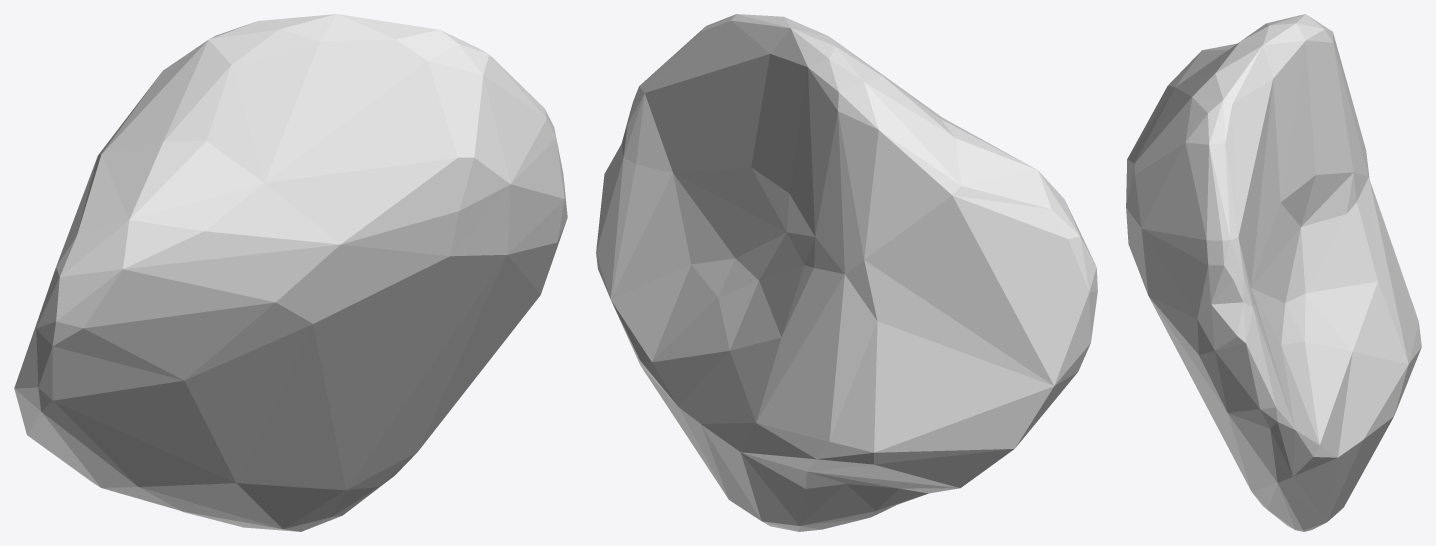
The model's file is patella.glb.
The picture shows the model from 3 angles, left to right: view 1: azimuth 30°, elevation 25°; view 2: azimuth 150°, elevation 25°; view 3: azimuth 270°, elevation 25°; orthographic projection. The views are drawn at different scales.
Parts seen in each view (by area): view 1: geometry_0; view 2: geometry_0; view 3: geometry_0.
Part boxes in pixels (<box>): geometry_0: <box>14,14,567,531</box>; geometry_0: <box>596,14,1097,531</box>; geometry_0: <box>1126,14,1421,531</box>.
Bounding box in the file's own units: 0.1922 × 0.1821 × 0.1012.
Materials: 1 (1 with a texture image).
